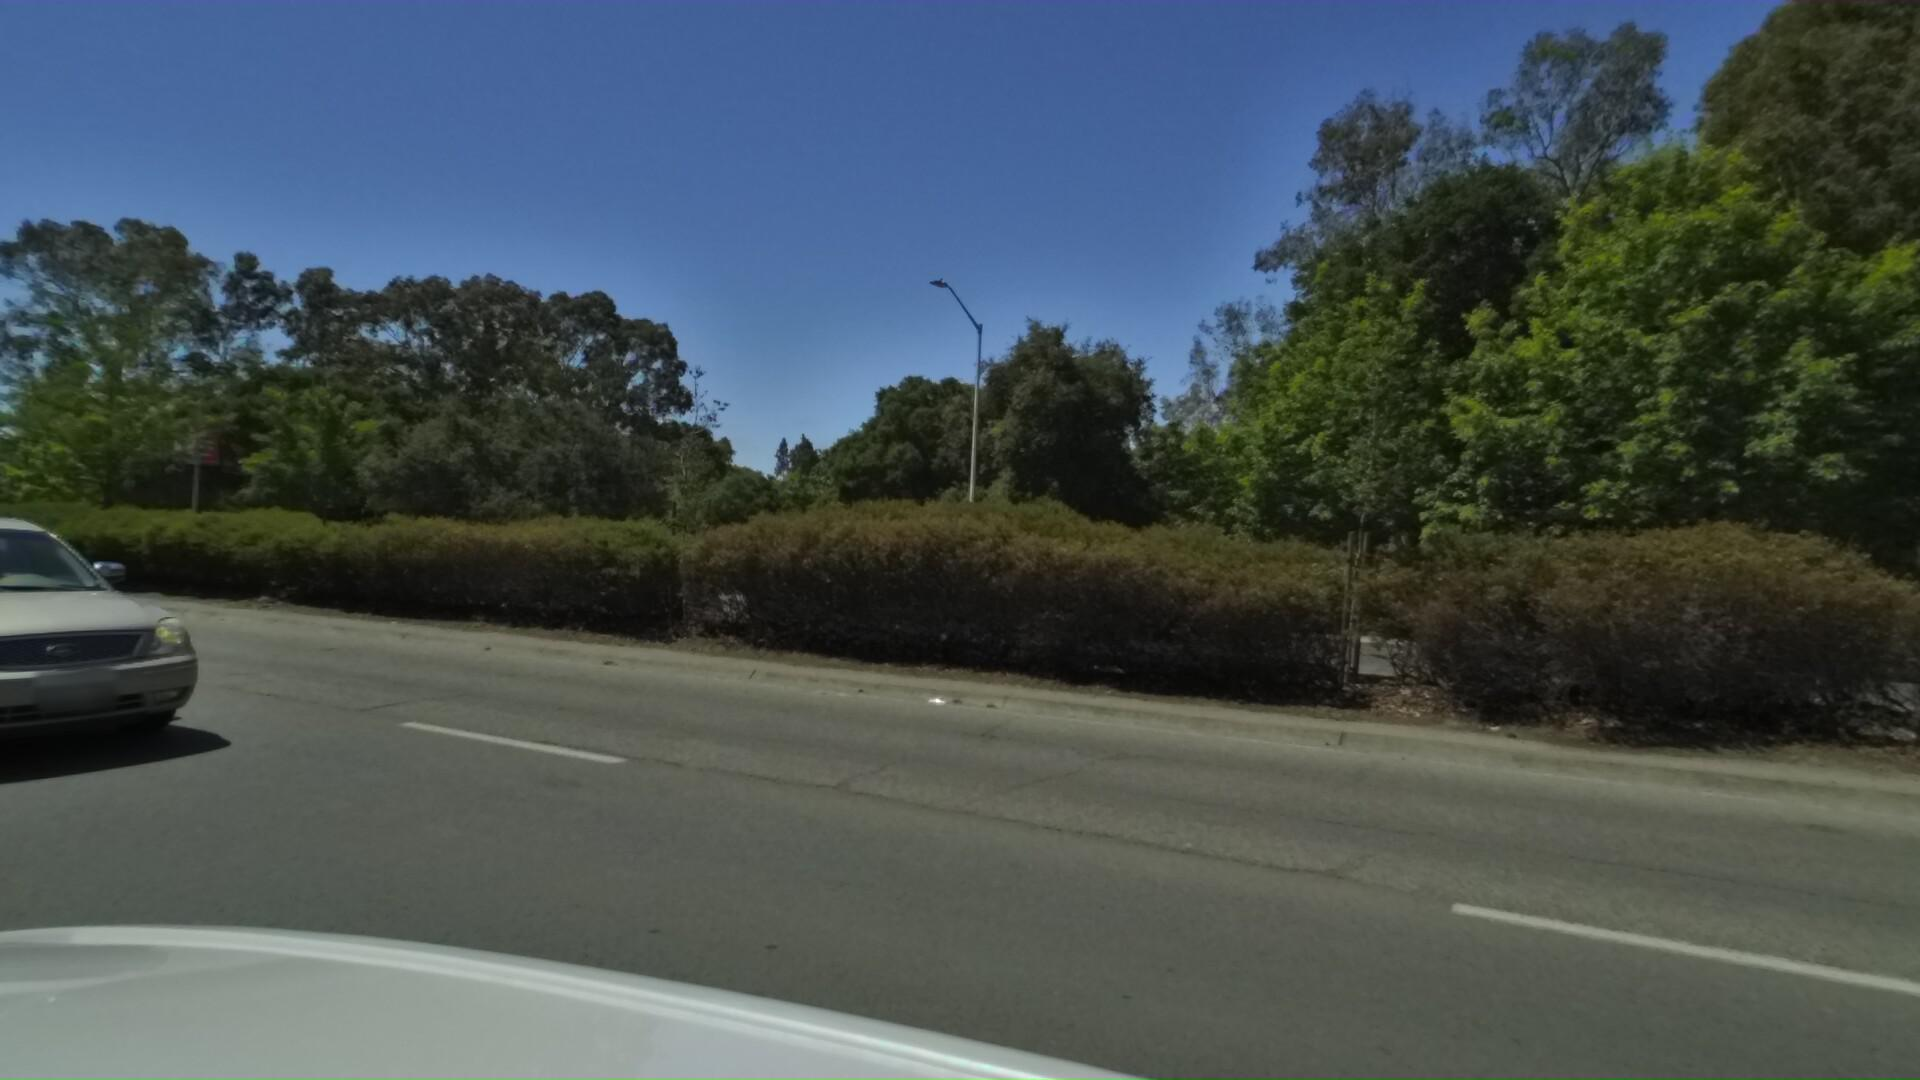car: (0, 476, 232, 796)
